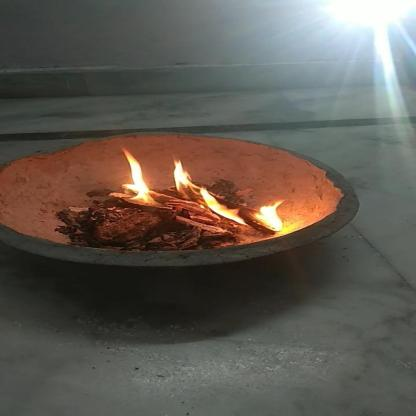fire: (170, 158, 244, 230), (112, 146, 156, 206), (255, 195, 288, 233)
